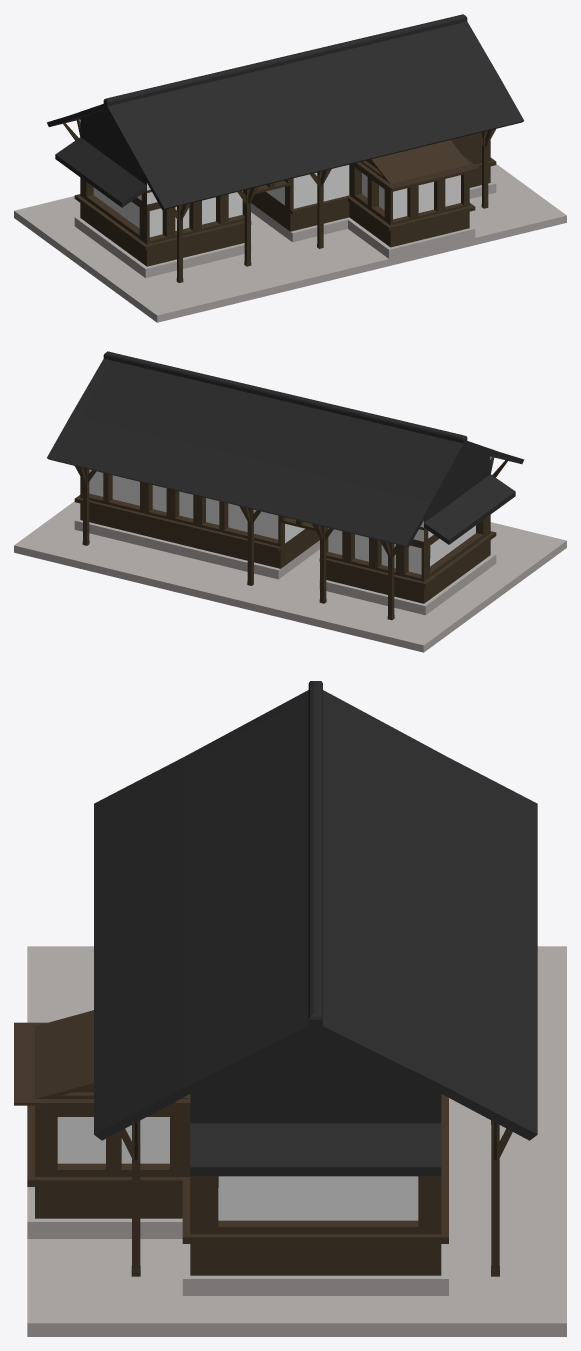
File: Minor-station_01_V2.fbx
3 renders of one model, top to bottom at view 1: azimuth 30°, elevation 25°; view 2: azimuth 150°, elevation 25°; view 3: azimuth 270°, elevation 25°, orthographic. The views are drawn at different scales.
Visible parts, largest first — view 1: Plane; view 2: Plane; view 3: Plane.
Boxes of the visible parts, x1,y1,x2,y2 form: Plane: (14,14,566,322); Plane: (14,351,566,652); Plane: (14,681,566,1336).
Size of the model in its own units: 1485 by 558 by 921.
